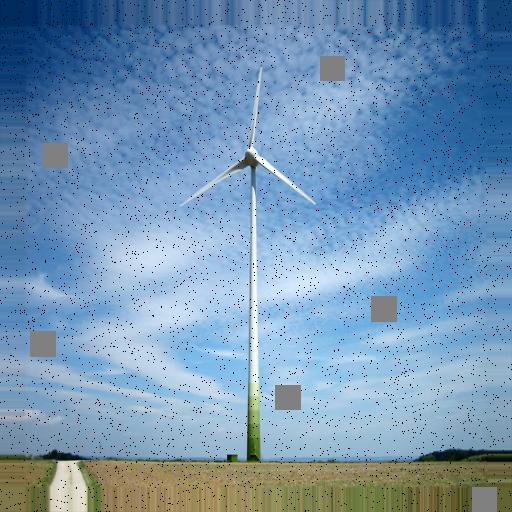wind turbine: (177, 64, 317, 465)
